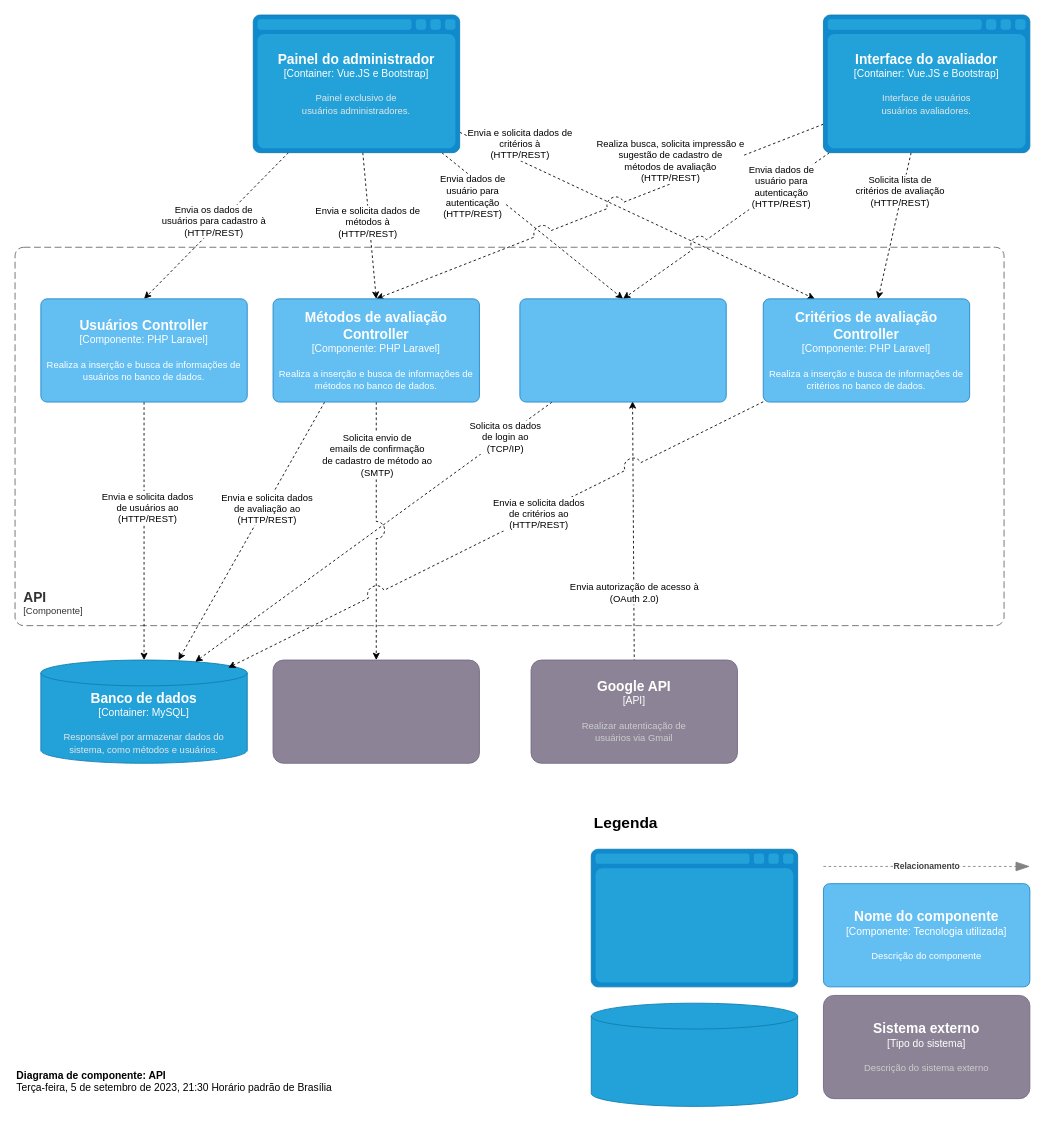
Image size: 1059x1121. Some labels were removed from this diagram. Here are the shapes that lost their labels. From the top down, the centre of each, then its label:
point 622,350: Login Controller [Componente: PHP Laravel] Realiza autenticação de usuários
point 375,711: MailChimp [Sistema] Sistema para envio de emails da MailChimp
point 694,917: Interfaces [Container: Tecnologias implementada] Descrição do container
point 694,1054: Banco de dados [Container: Tecnologias implementadas] Descrição do container.
